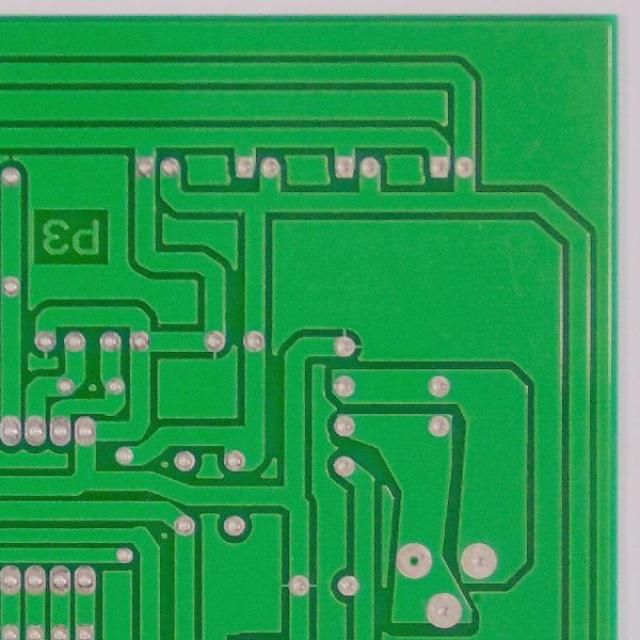Missing_Hole: (394, 541, 435, 581)
